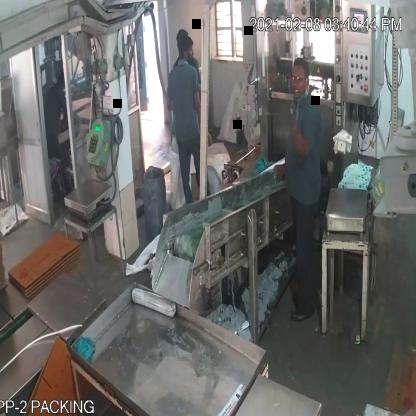no_glove: (284, 108, 324, 176)
